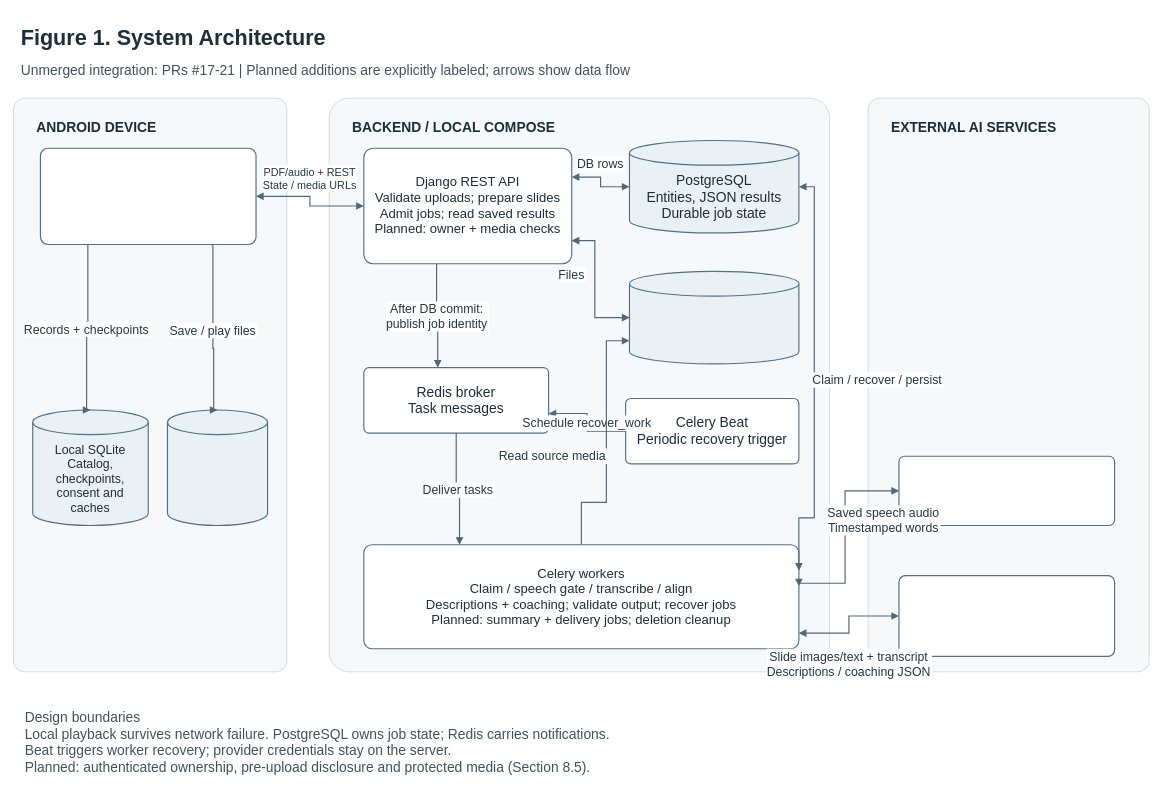
This 1163x800 diagram has some shape labels left out. The shapes that lost their labels are listed below. From the top down, each one's box as (x1, y1, x2, y2) in pixels, then its label:
(40, 147, 256, 245): Expo / React Native Capture, consent and review Expo Router + TypeScript
(629, 271, 799, 364): Shared server media PDFs, audio, images API + worker mount
(167, 409, 268, 526): Private media Original PDFs Captured audio
(898, 455, 1115, 526): Hosted Whisper OpenAI whisper-1
(898, 575, 1115, 657): OpenAI or Gemini Descriptions / coaching Planned: speech summaries
